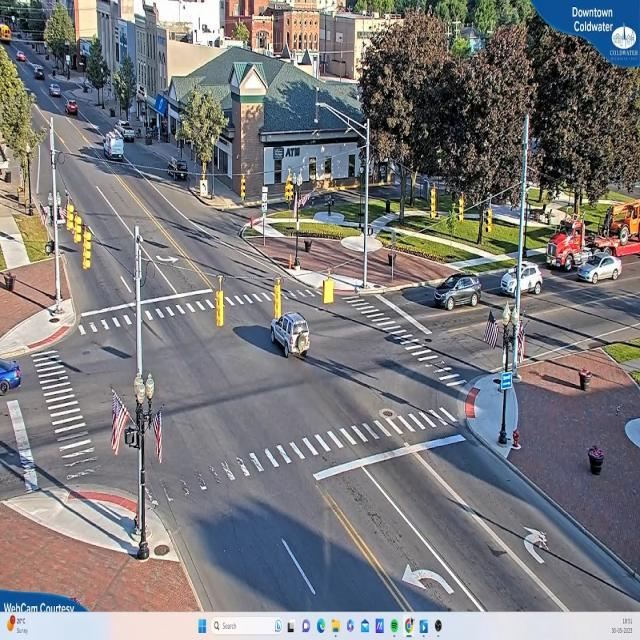car: (270, 314, 310, 363), (434, 274, 482, 312), (500, 263, 544, 297), (578, 254, 623, 284), (1, 362, 23, 392), (122, 129, 137, 142), (66, 100, 78, 115), (51, 84, 62, 97), (34, 66, 44, 79), (17, 52, 28, 62)
